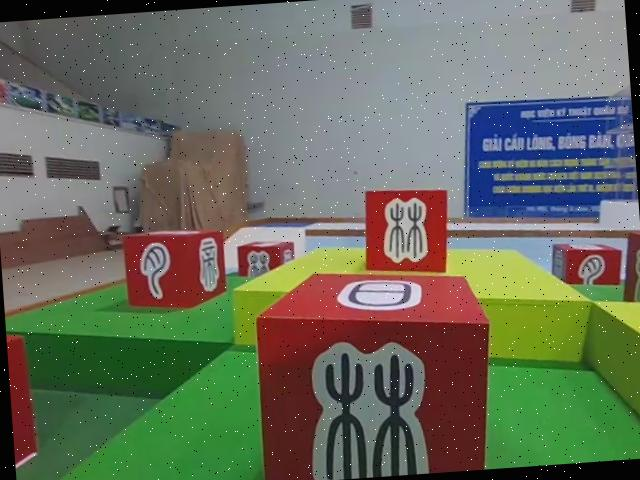R2 Fake: (244, 261, 500, 480), (120, 224, 230, 312), (356, 184, 453, 283), (547, 237, 625, 298), (232, 237, 293, 278), (616, 223, 640, 315)
